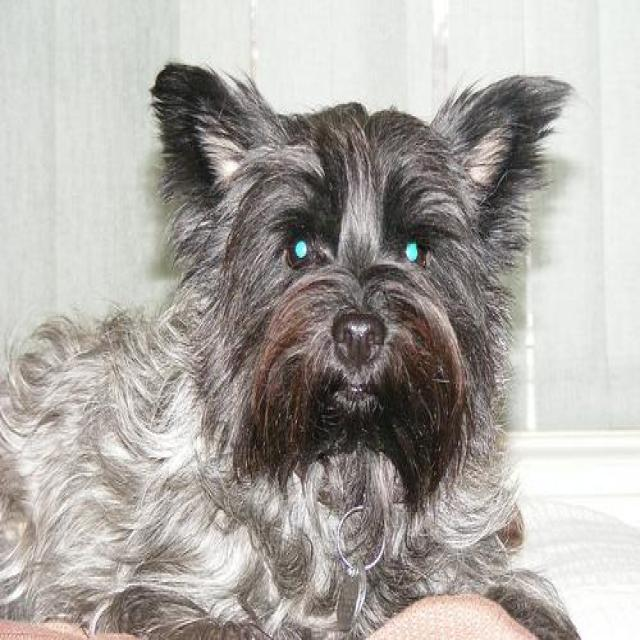dog: (60, 17, 606, 640)
